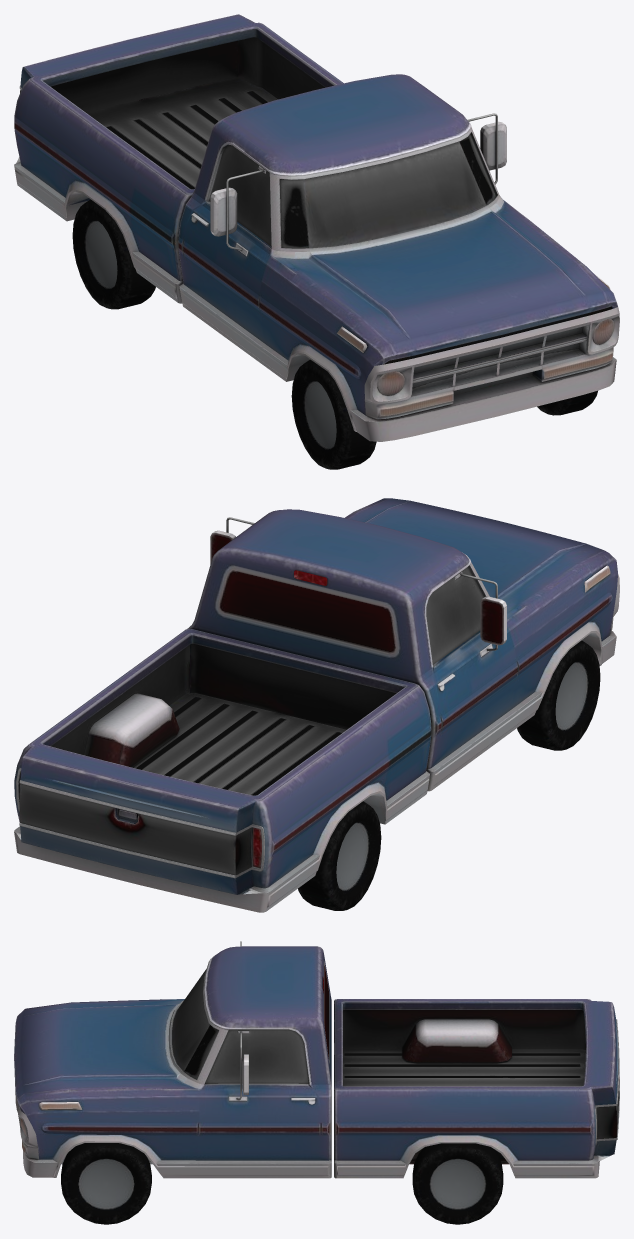
The model's file is VEH_OldPickup.glb.
3 views of the same model, one above another, from view 1: azimuth 30°, elevation 25°; view 2: azimuth 150°, elevation 25°; view 3: azimuth 270°, elevation 25° (orthographic). The views are drawn at different scales.
Parts seen in each view (by area): view 1: car; view 2: car; view 3: car.
Boxes of the visible parts, bbox=[...] form: car: bbox=[14, 14, 619, 469]; car: bbox=[14, 498, 619, 912]; car: bbox=[14, 941, 619, 1224].
Size of the model in its own units: 2.29 by 1.86 by 5.1.
Materials: 1 (1 with a texture image).
